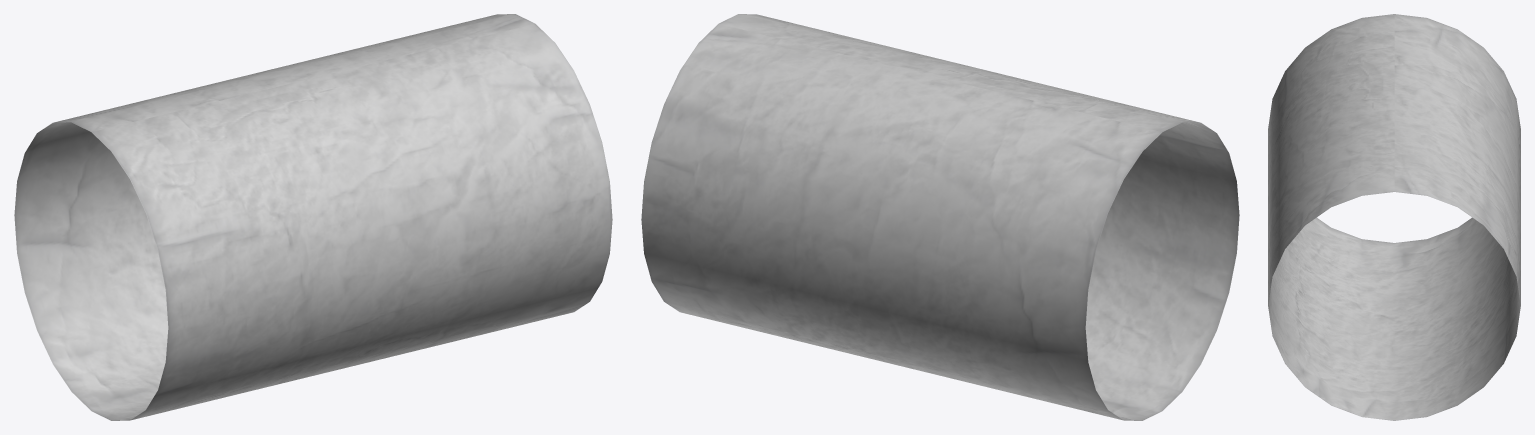
The model's file is Subway_Pipe_foil4_L1.fbx.
The picture shows the model from 3 angles, left to right: view 1: azimuth 30°, elevation 25°; view 2: azimuth 150°, elevation 25°; view 3: azimuth 270°, elevation 25°; orthographic projection. The views are drawn at different scales.
Parts seen in each view (by area): view 1: pCylinder19; view 2: pCylinder19; view 3: pCylinder19.
Boxes of the visible parts, left/top/right/bottom form: pCylinder19: left=14, top=14, right=612, bottom=420; pCylinder19: left=641, top=14, right=1239, bottom=420; pCylinder19: left=1268, top=14, right=1520, bottom=420.
Bounding box in the file's own units: 100 × 60 × 60.
